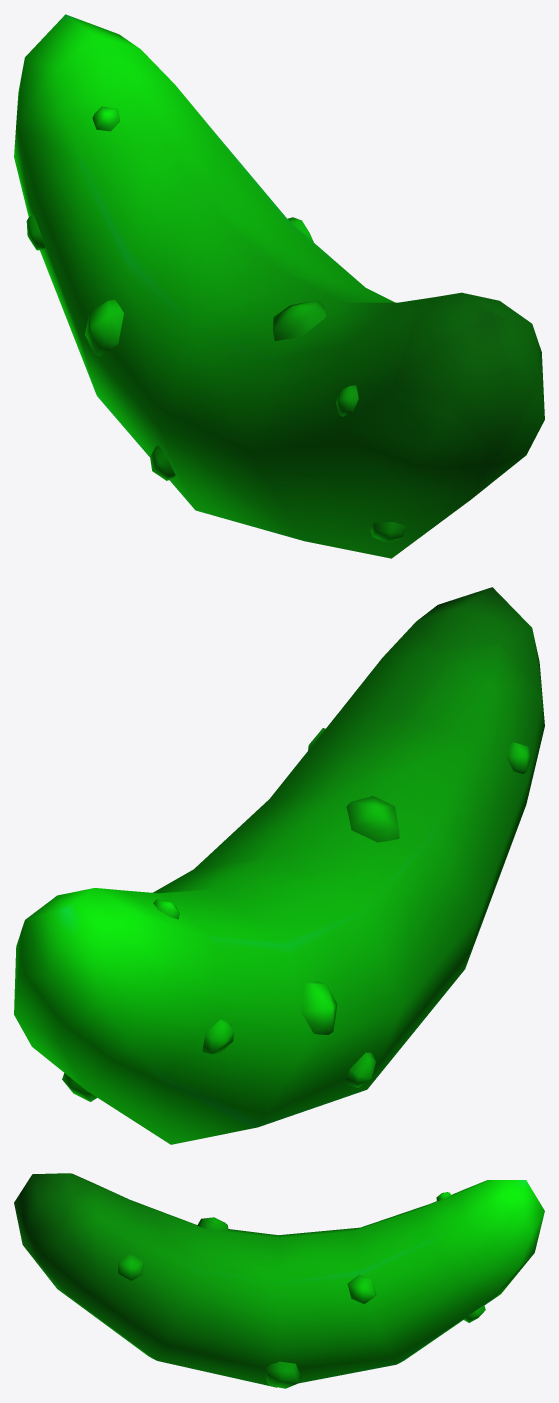
The model's file is cucumber.fbx.
The picture shows the model from 3 angles, top to bottom: view 1: azimuth 30°, elevation 25°; view 2: azimuth 150°, elevation 25°; view 3: azimuth 270°, elevation 25°; orthographic projection. The views are drawn at different scales.
Visible parts, largest first — view 1: cucumber; view 2: cucumber; view 3: cucumber.
Part boxes in pixels (box(x1,y1,x2,y2)): cucumber: box(14, 14, 544, 558); cucumber: box(14, 587, 544, 1144); cucumber: box(14, 1173, 544, 1388).
Bounding box in the file's own units: 4.91 × 7.09 × 16.14.
